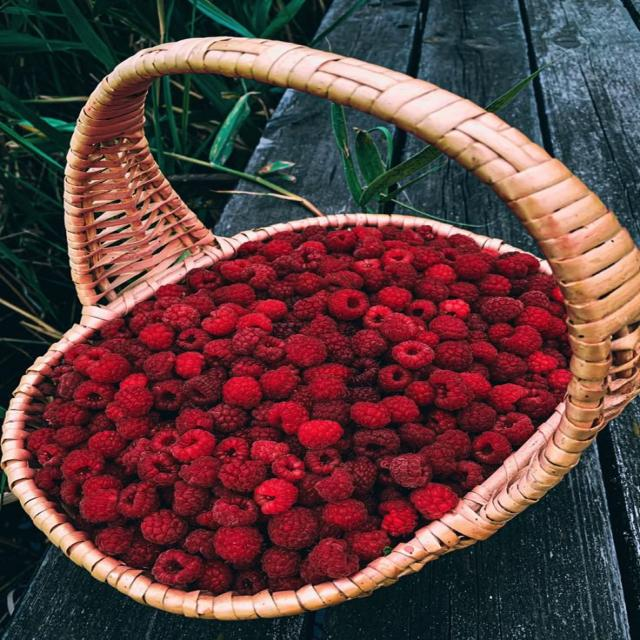raspberry: (268, 507, 318, 549), (307, 538, 358, 578), (214, 526, 263, 564), (152, 549, 202, 585), (429, 370, 473, 410), (411, 483, 458, 519), (140, 509, 187, 544), (254, 479, 298, 514), (117, 483, 159, 519), (219, 461, 266, 492), (171, 429, 215, 462), (322, 499, 367, 531), (389, 454, 431, 488), (61, 450, 104, 483), (212, 496, 259, 526), (379, 500, 418, 536), (138, 452, 179, 486), (420, 440, 456, 478), (494, 413, 534, 447), (354, 429, 399, 459), (346, 530, 389, 561), (285, 335, 326, 367), (500, 325, 542, 356), (267, 402, 309, 433), (87, 353, 131, 382), (298, 421, 343, 449), (118, 438, 153, 474), (121, 538, 163, 568), (316, 468, 353, 502), (80, 489, 118, 522), (260, 367, 299, 399), (473, 432, 512, 464), (517, 390, 557, 421), (180, 457, 221, 487), (173, 481, 208, 516), (223, 378, 262, 409), (183, 375, 221, 406), (392, 341, 434, 369), (434, 341, 473, 371), (261, 547, 300, 577), (208, 404, 248, 433), (74, 381, 115, 409), (379, 313, 418, 342), (114, 387, 153, 416), (44, 402, 91, 426), (496, 252, 539, 278), (459, 402, 496, 432), (95, 526, 133, 555), (200, 308, 238, 337), (488, 384, 526, 413), (480, 297, 524, 322), (490, 352, 526, 382), (87, 431, 126, 458), (351, 402, 391, 428), (212, 284, 255, 308), (437, 429, 471, 459), (380, 396, 419, 422), (73, 347, 109, 375), (183, 529, 216, 559), (515, 306, 553, 332), (214, 436, 249, 464), (378, 365, 413, 393), (230, 328, 266, 355), (305, 448, 341, 475), (303, 363, 351, 383), (143, 351, 176, 380), (251, 440, 289, 465), (352, 330, 387, 357), (454, 254, 490, 280), (399, 423, 435, 449), (312, 400, 349, 425), (294, 292, 327, 320), (384, 263, 418, 290), (140, 323, 174, 350), (272, 455, 306, 482), (175, 409, 213, 433), (376, 286, 412, 311), (429, 316, 468, 339), (347, 359, 379, 387), (203, 339, 237, 365), (414, 277, 449, 302), (309, 378, 347, 401), (454, 460, 484, 489), (460, 372, 492, 399), (254, 336, 284, 364), (174, 351, 205, 378), (297, 473, 322, 506), (236, 312, 273, 334), (116, 417, 153, 439), (230, 357, 266, 379), (151, 424, 179, 452), (82, 475, 121, 495), (182, 292, 214, 316), (34, 468, 62, 495), (187, 268, 221, 290), (325, 230, 357, 253), (478, 274, 511, 296), (427, 409, 456, 434), (405, 381, 434, 406), (294, 273, 324, 297), (363, 305, 393, 329), (54, 427, 88, 448), (405, 300, 437, 322), (27, 428, 56, 452), (100, 318, 132, 339), (450, 282, 479, 305), (527, 273, 556, 296), (527, 351, 557, 373), (439, 299, 470, 320), (425, 264, 457, 284), (300, 560, 326, 584), (487, 323, 514, 345), (548, 369, 572, 392), (347, 387, 379, 403), (60, 481, 80, 506)
